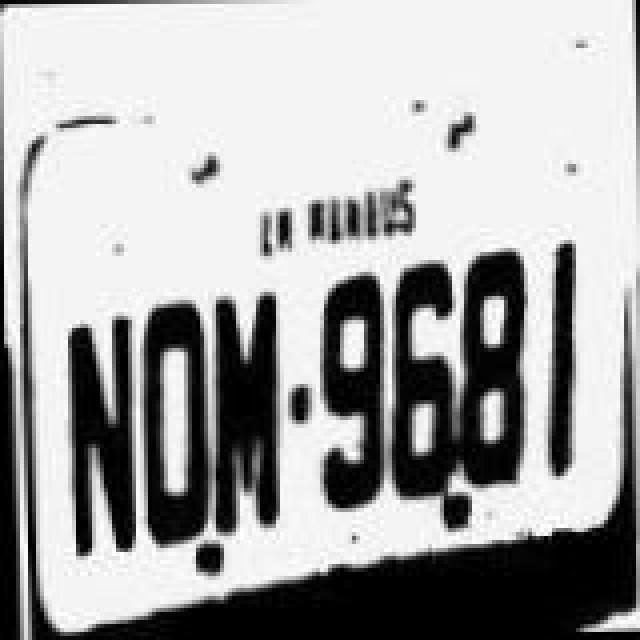1: (532, 208, 612, 496)
6: (380, 246, 464, 530)
8: (448, 216, 544, 516)
9: (306, 256, 394, 540)
M: (202, 276, 290, 572)
N: (60, 298, 156, 590)
O: (136, 292, 224, 588)
